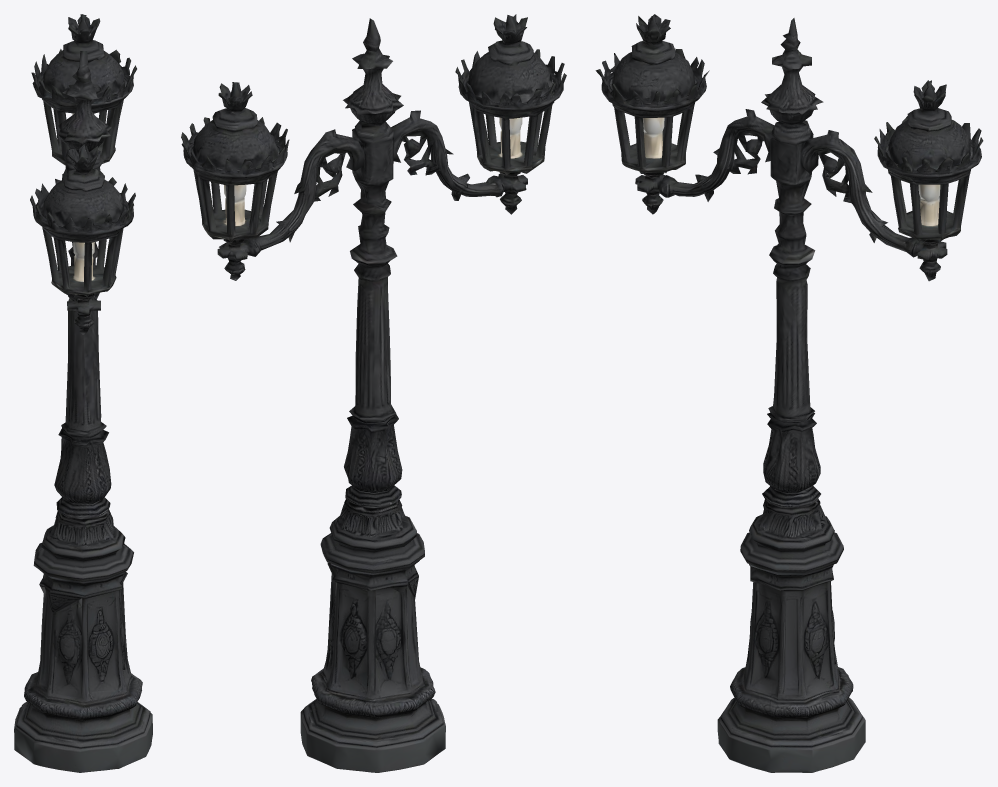
The model's file is prop.lamp.glb.
The picture shows the model from 3 angles, left to right: view 1: azimuth 30°, elevation 25°; view 2: azimuth 150°, elevation 25°; view 3: azimuth 270°, elevation 25°; orthographic projection. The views are drawn at different scales.
Visible parts, largest first — view 1: tripo_node_4beebbad-6f77-41d9-bcc7-d9eb05a2420d; view 2: tripo_node_4beebbad-6f77-41d9-bcc7-d9eb05a2420d; view 3: tripo_node_4beebbad-6f77-41d9-bcc7-d9eb05a2420d.
Boxes of the visible parts, <box> form: tripo_node_4beebbad-6f77-41d9-bcc7-d9eb05a2420d: <box>14,14,152,772</box>; tripo_node_4beebbad-6f77-41d9-bcc7-d9eb05a2420d: <box>181,14,566,772</box>; tripo_node_4beebbad-6f77-41d9-bcc7-d9eb05a2420d: <box>595,14,983,772</box>.
Size of the model in its own units: 0.3374 by 1 by 0.4855.
1 material, 1 textured.
